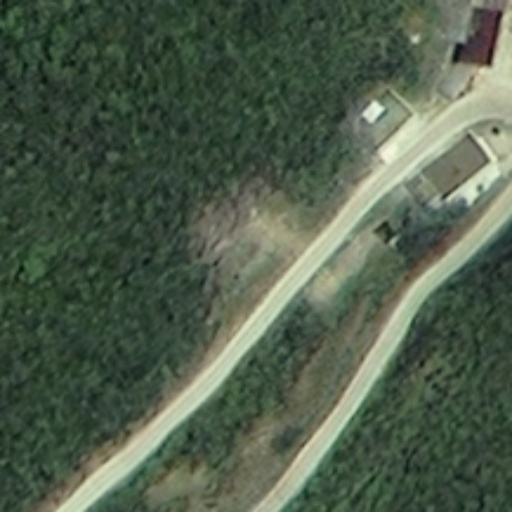landslide: (189, 178, 316, 322)
